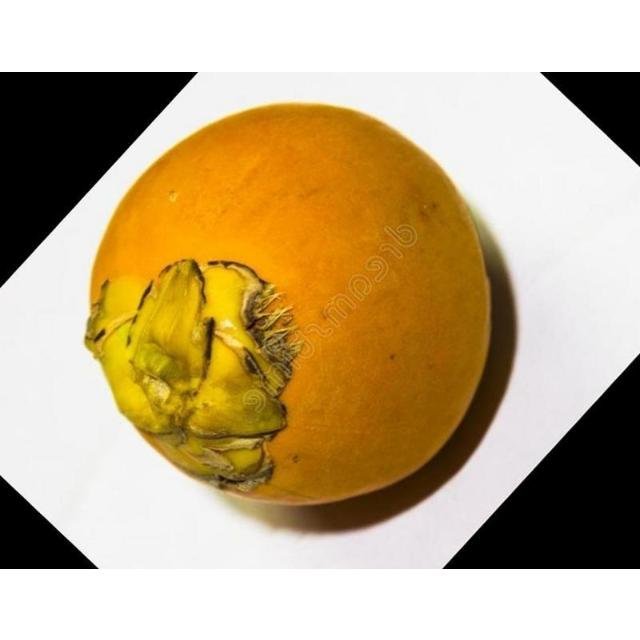good: (82, 101, 513, 509)
